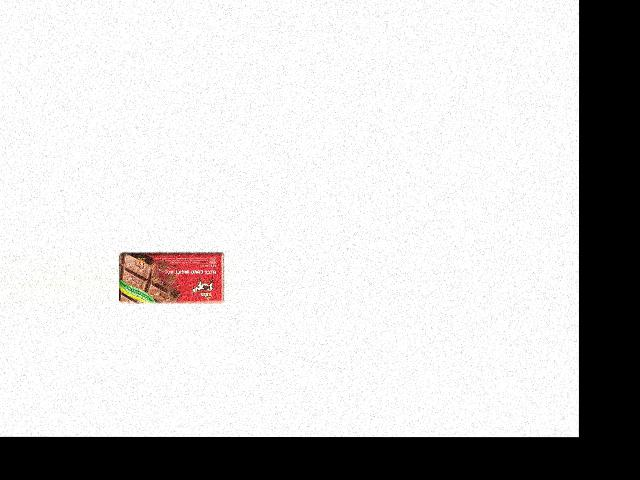chocolate: (118, 249, 226, 304)
